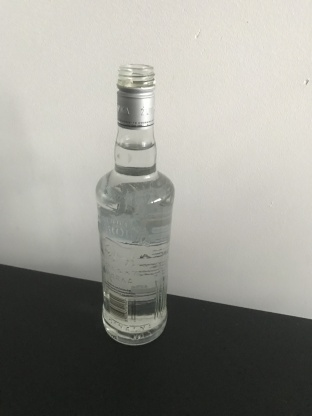nakretka: (115, 62, 157, 132)
